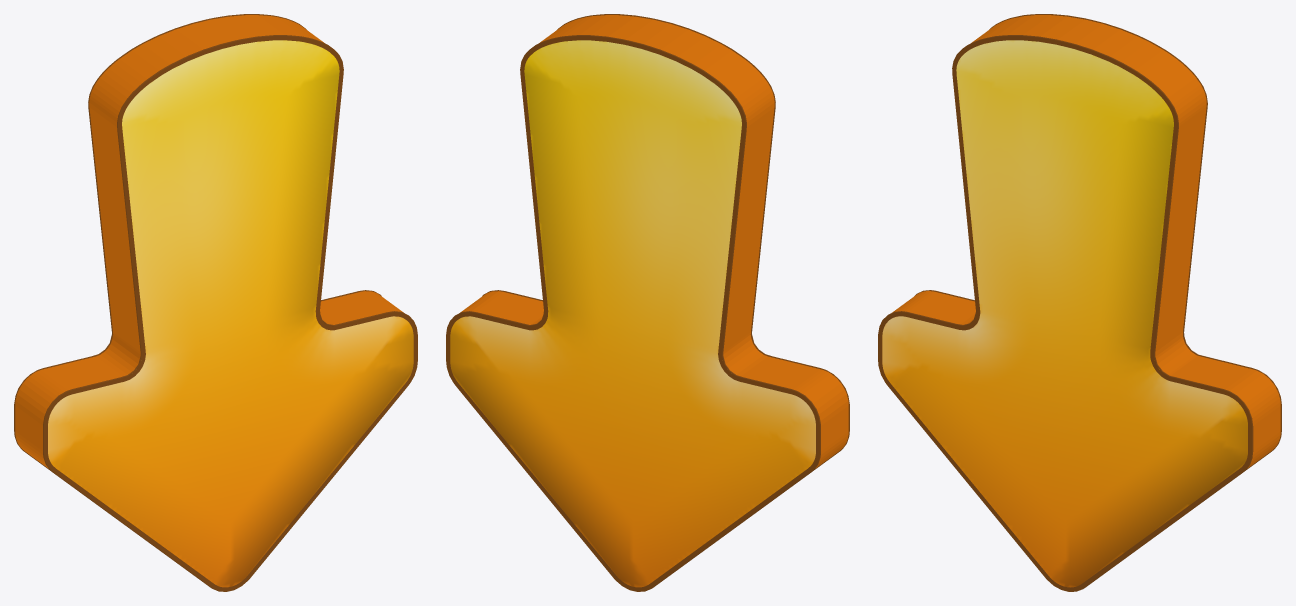
Rendered from arrow.glb.
3 renders of one model, left to right at view 1: azimuth 30°, elevation 25°; view 2: azimuth 150°, elevation 25°; view 3: azimuth 330°, elevation 25°, orthographic.
Parts seen in each view (by area): view 1: arrow_front, arrow_side, arrow_outline_ring, arrow_outline_edge (×2); view 2: arrow_back, arrow_side, arrow_outline_ring, arrow_outline_edge (×2); view 3: arrow_front, arrow_side, arrow_outline_ring, arrow_outline_edge (×2).
Boxes of the visible parts, bbox=[...] form: arrow_front: bbox=[48, 40, 413, 587]; arrow_side: bbox=[15, 15, 403, 468]; arrow_outline_ring: bbox=[44, 36, 417, 591]; arrow_outline_edge (×2): bbox=[14, 14, 417, 591]; arrow_back: bbox=[450, 40, 815, 587]; arrow_side: bbox=[460, 15, 848, 468]; arrow_outline_ring: bbox=[446, 36, 819, 591]; arrow_outline_edge (×2): bbox=[446, 14, 849, 591]; arrow_front: bbox=[882, 40, 1247, 587]; arrow_side: bbox=[892, 15, 1280, 468]; arrow_outline_ring: bbox=[878, 36, 1251, 591]; arrow_outline_edge (×2): bbox=[878, 14, 1281, 591].
Size of the model in its own units: 2.1 by 2.95 by 0.288.
